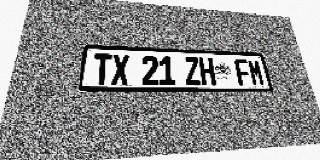1: (158, 56, 175, 85)
2: (142, 55, 159, 85)
F: (234, 59, 252, 86)
H: (199, 57, 216, 85)
M: (247, 59, 265, 86)
T: (92, 53, 112, 85)
X: (111, 54, 129, 85)
Z: (184, 57, 201, 85)
